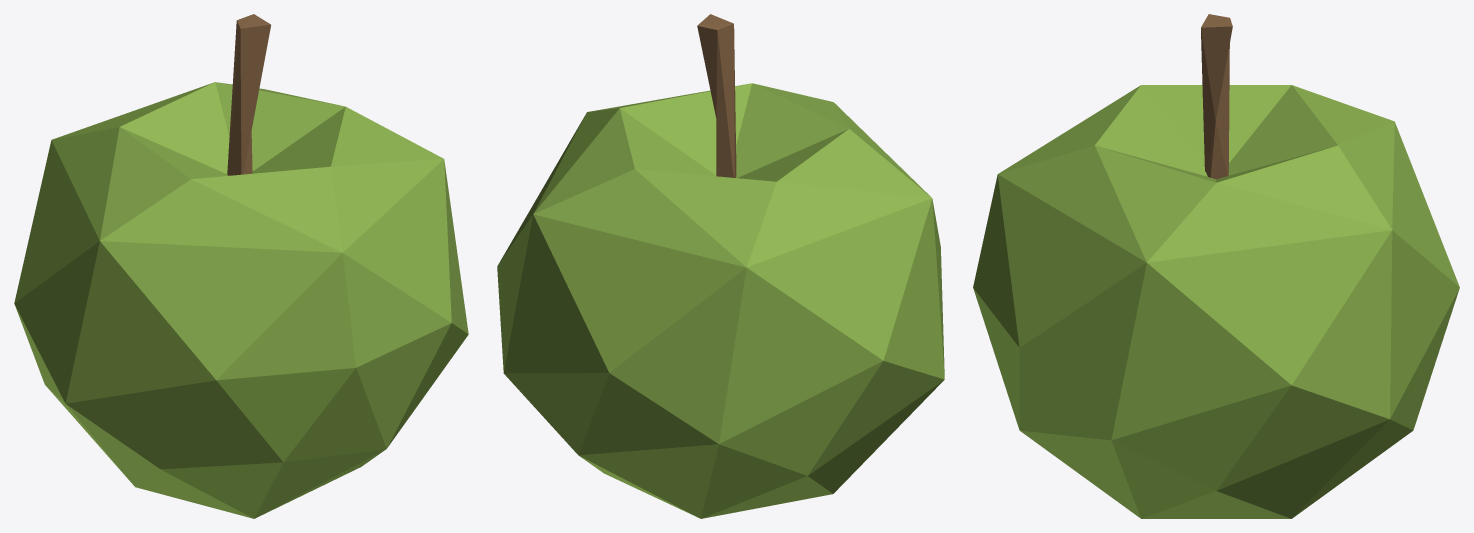
The model's file is Apple_03.fbx.
The picture shows the model from 3 angles, left to right: view 1: azimuth 30°, elevation 25°; view 2: azimuth 150°, elevation 25°; view 3: azimuth 270°, elevation 25°; orthographic projection. The views are drawn at different scales.
Visible parts, largest first — view 1: Apple_03; view 2: Apple_03; view 3: Apple_03.
Part boxes in pixels (box(x1,y1,x2,y2)): Apple_03: box(14, 14, 468, 518); Apple_03: box(497, 14, 944, 518); Apple_03: box(973, 14, 1459, 518).
Size of the model in its own units: 11.67 by 13.5 by 12.12.
